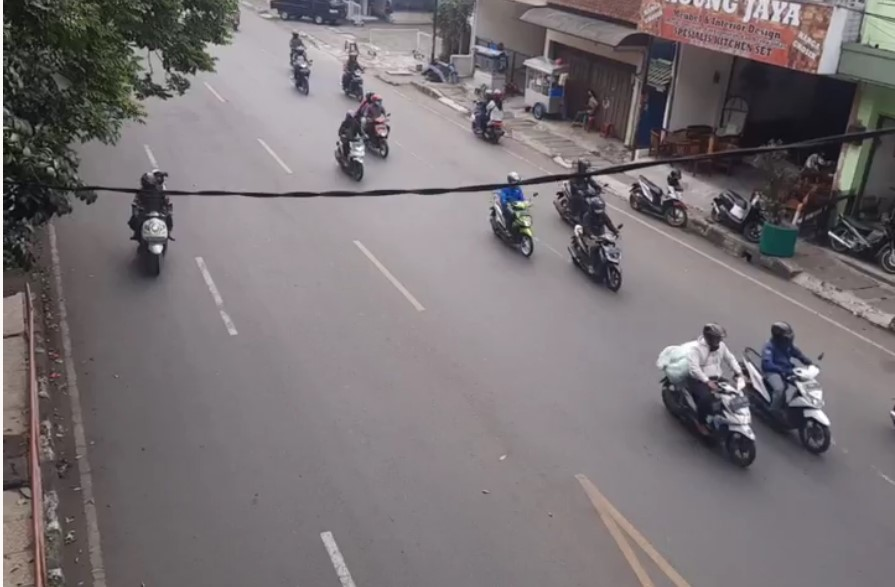motor: (660, 320, 752, 464), (745, 320, 838, 454), (117, 165, 176, 272), (573, 205, 629, 293), (491, 171, 542, 261), (560, 158, 606, 226), (352, 98, 399, 155), (337, 111, 369, 182)
